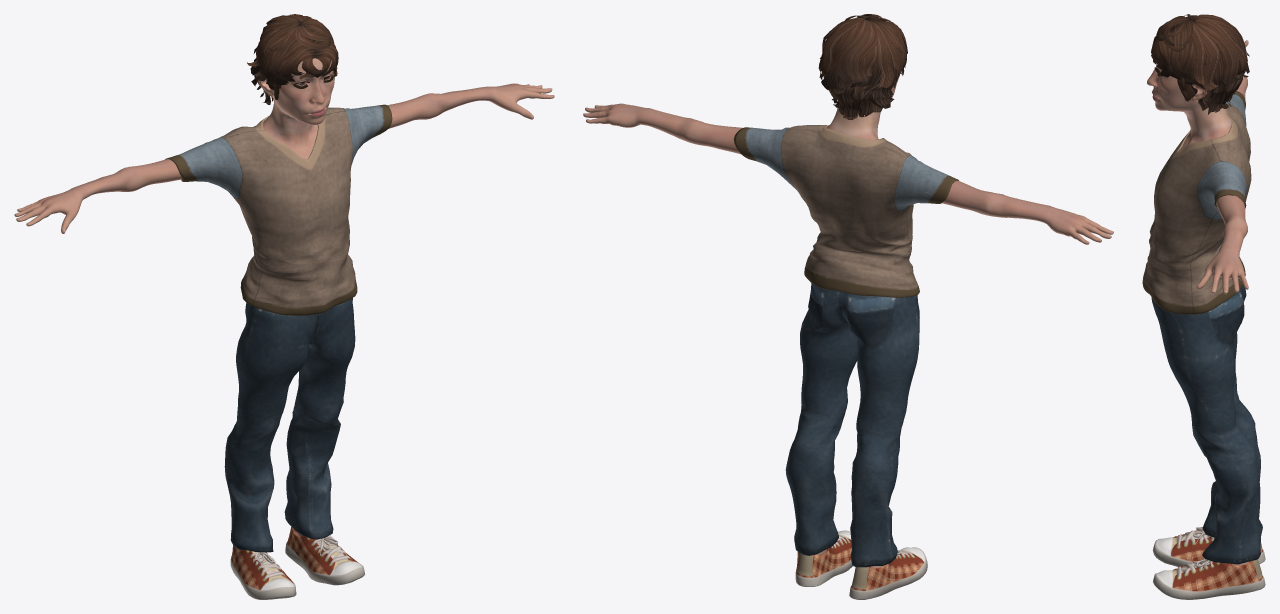
Rendered from realest boy object.obj.
3 renders of one model, left to right at view 1: azimuth 30°, elevation 25°; view 2: azimuth 150°, elevation 25°; view 3: azimuth 270°, elevation 25°, orthographic.
Visible parts, largest first — view 1: Tops, Bottoms, Body, Shoes, Hair; view 2: Bottoms, Tops, Body, Hair, Shoes; view 3: Bottoms, Tops, Hair, Body, Shoes.
Part boxes in pixels (bbox=[...]): Tops: bbox=[165, 104, 392, 315]; Bottoms: bbox=[224, 298, 355, 552]; Body: bbox=[14, 58, 554, 535]; Shoes: bbox=[230, 527, 364, 599]; Hair: bbox=[247, 14, 338, 104]; Bottoms: bbox=[785, 283, 919, 567]; Tops: bbox=[733, 125, 958, 297]; Body: bbox=[583, 75, 1113, 568]; Hair: bbox=[818, 14, 907, 119]; Shoes: bbox=[795, 530, 927, 599]; Bottoms: bbox=[1151, 285, 1262, 564]; Tops: bbox=[1142, 91, 1251, 314]; Hair: bbox=[1151, 14, 1249, 115]; Body: bbox=[1147, 40, 1248, 565]; Shoes: bbox=[1152, 527, 1265, 599].
Size of the model in its own units: 126 by 127 by 25.29.
1 material, 1 textured.
